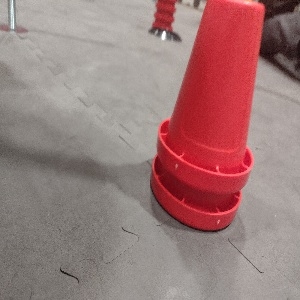Red_2: (147, 0, 265, 233)
Red_3: (153, 0, 175, 34)
